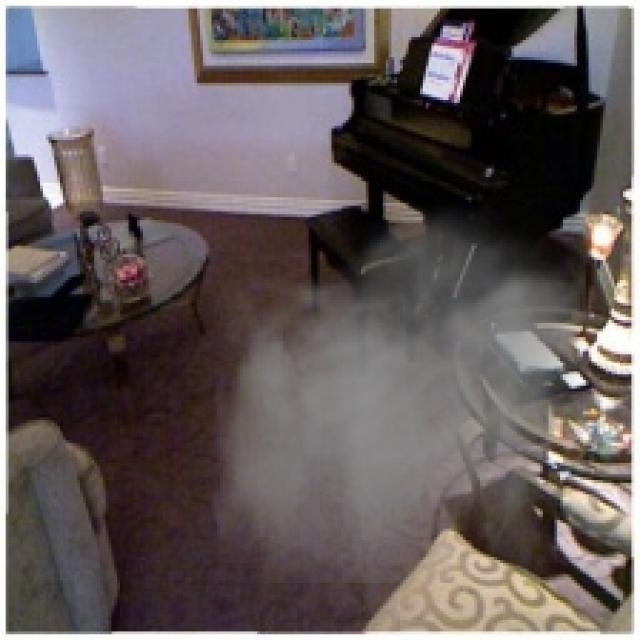smoke: (211, 194, 586, 583)
